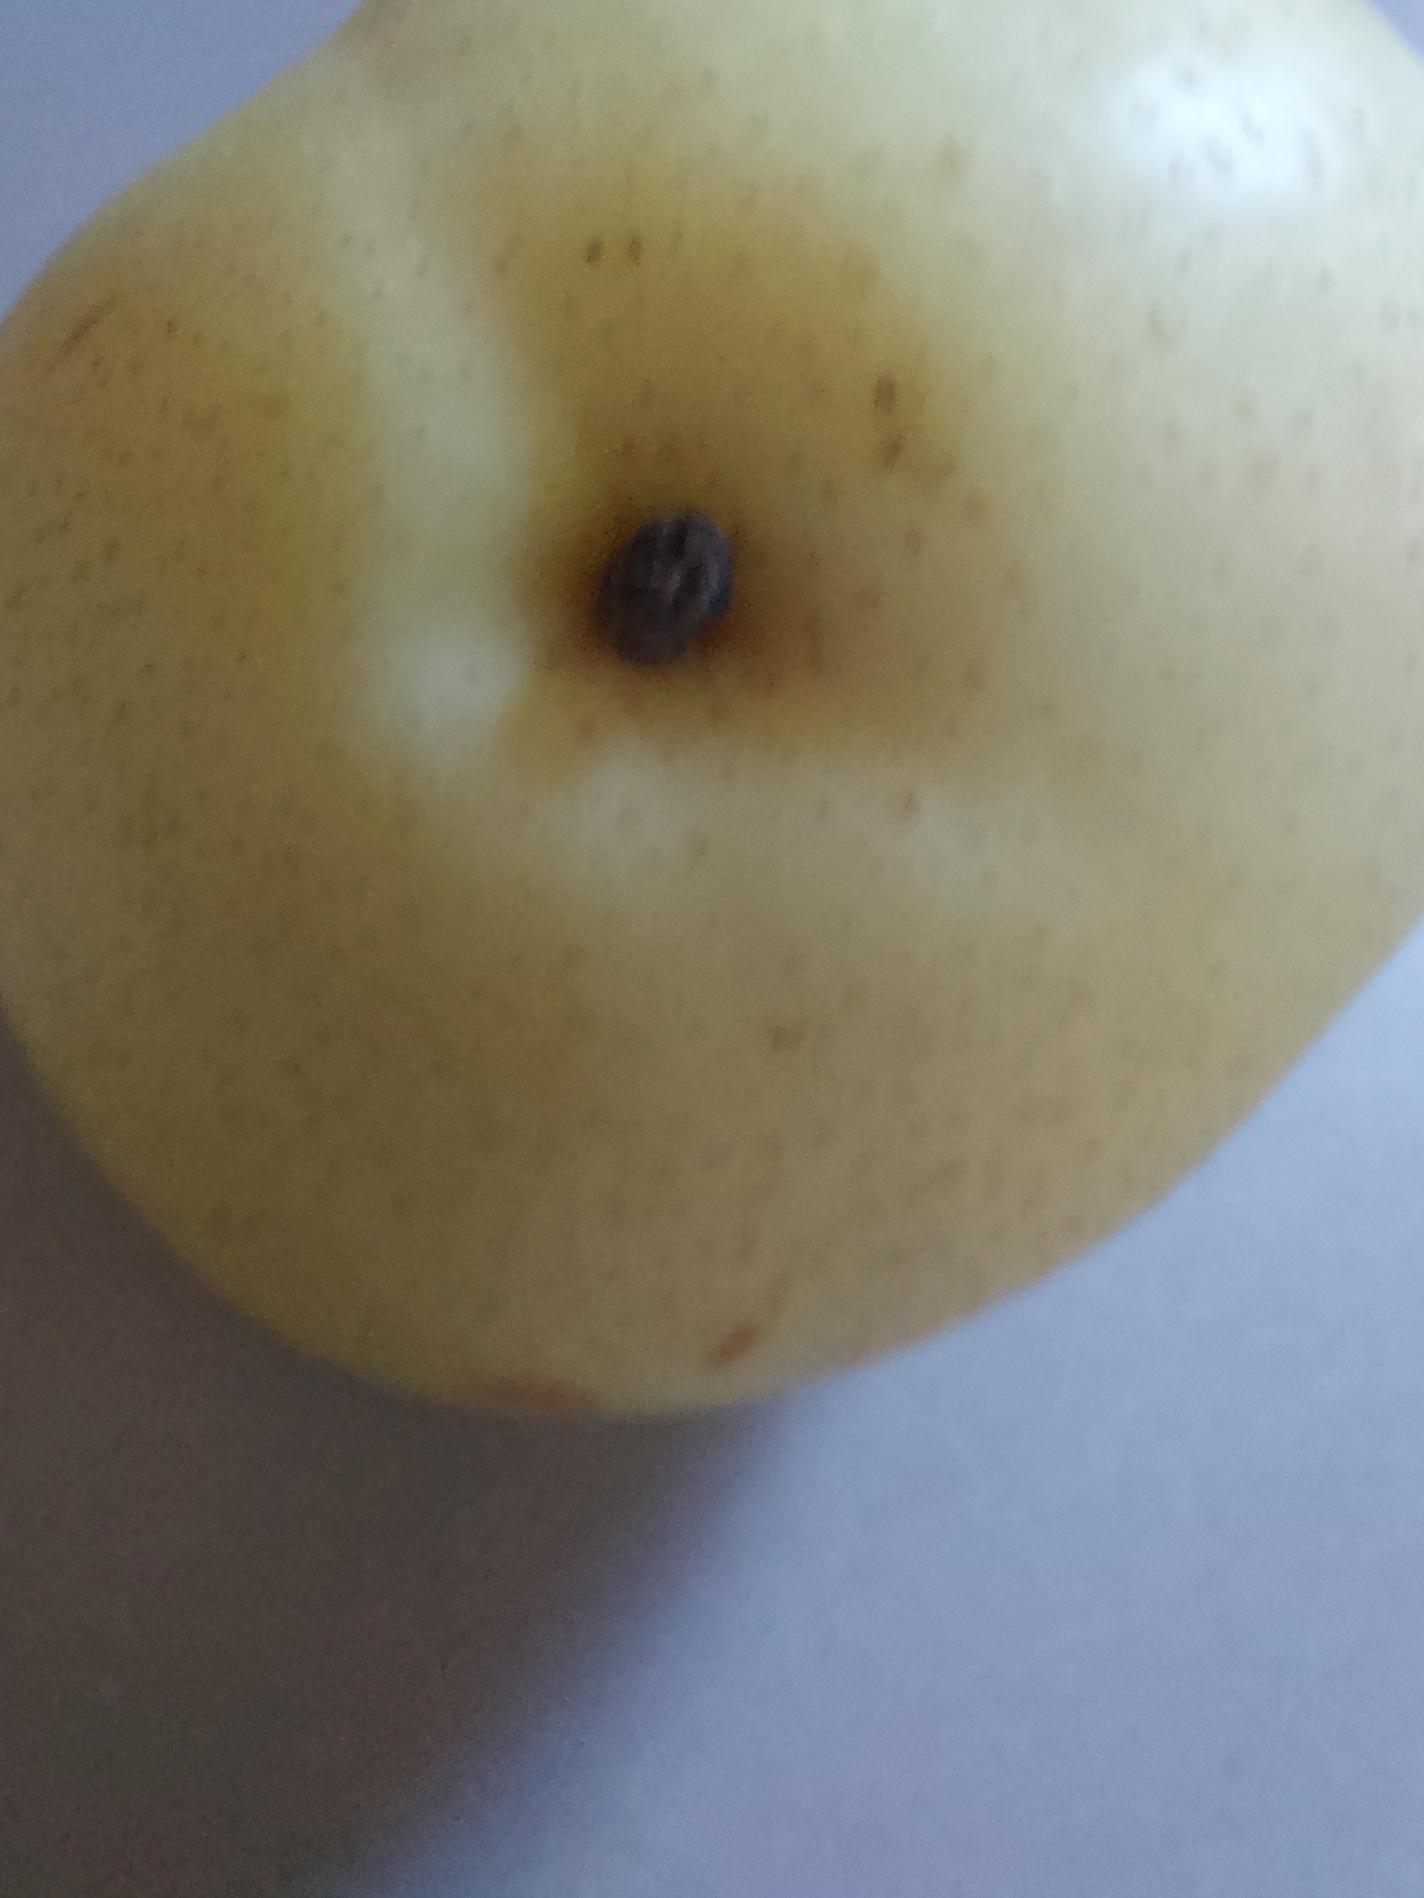Good Pear: (0, 0, 1424, 1434)
